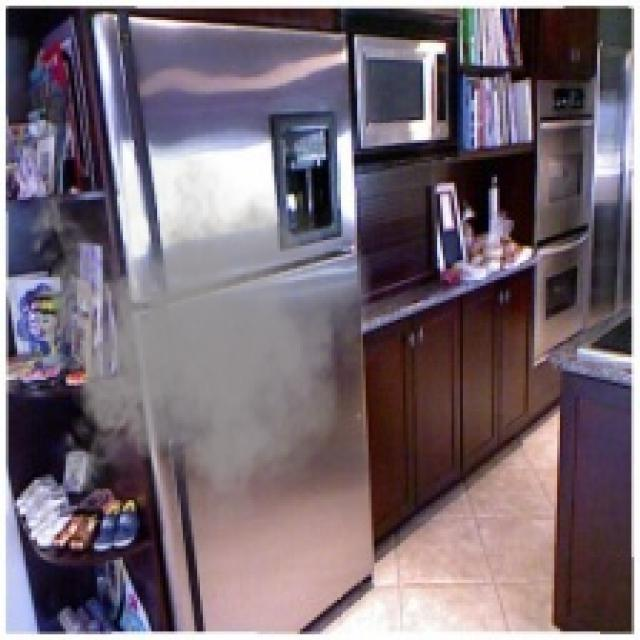Smoke: (20, 132, 377, 554)
